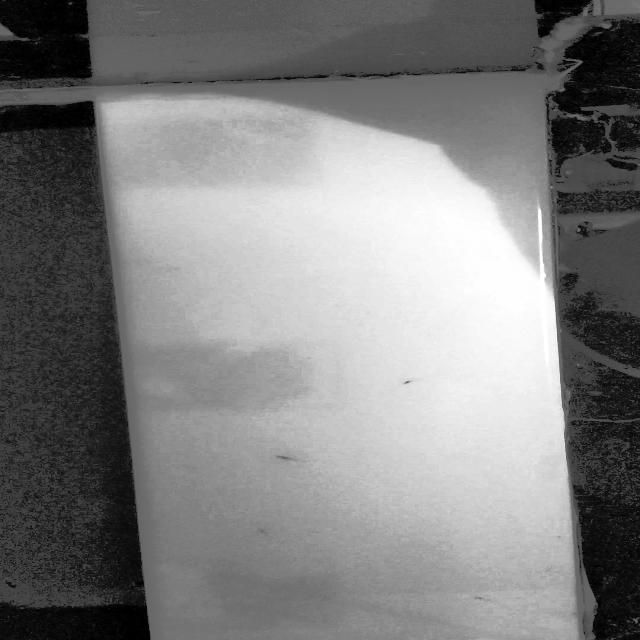shrimp: (381, 371, 443, 394), (254, 447, 308, 471)
